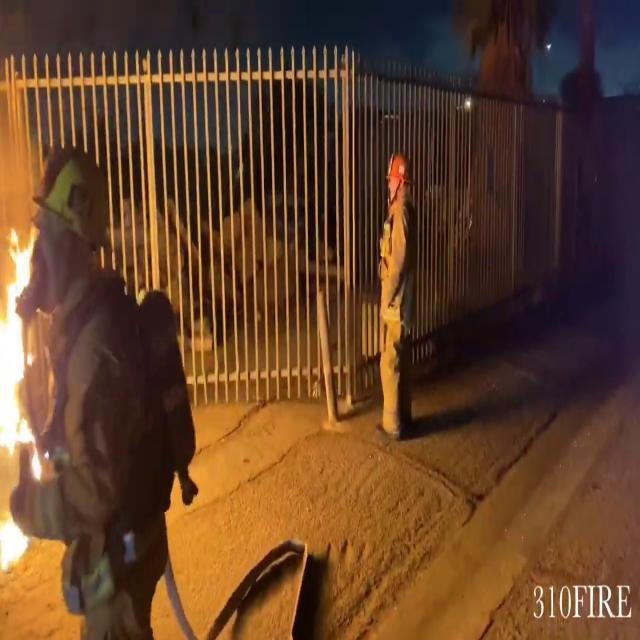Fire: (0, 204, 46, 576)
